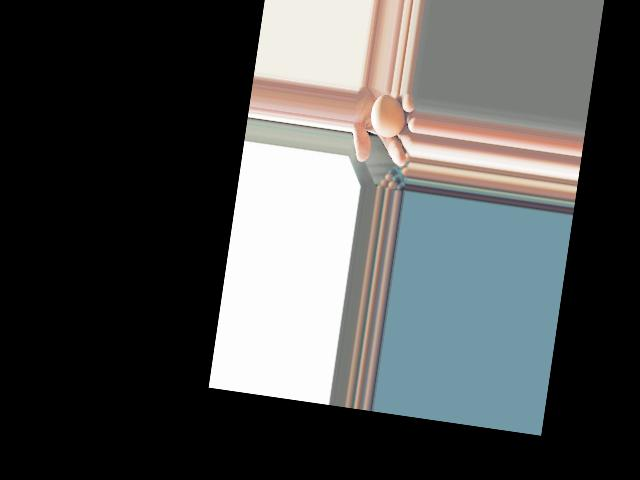egg: (368, 92, 409, 139)
